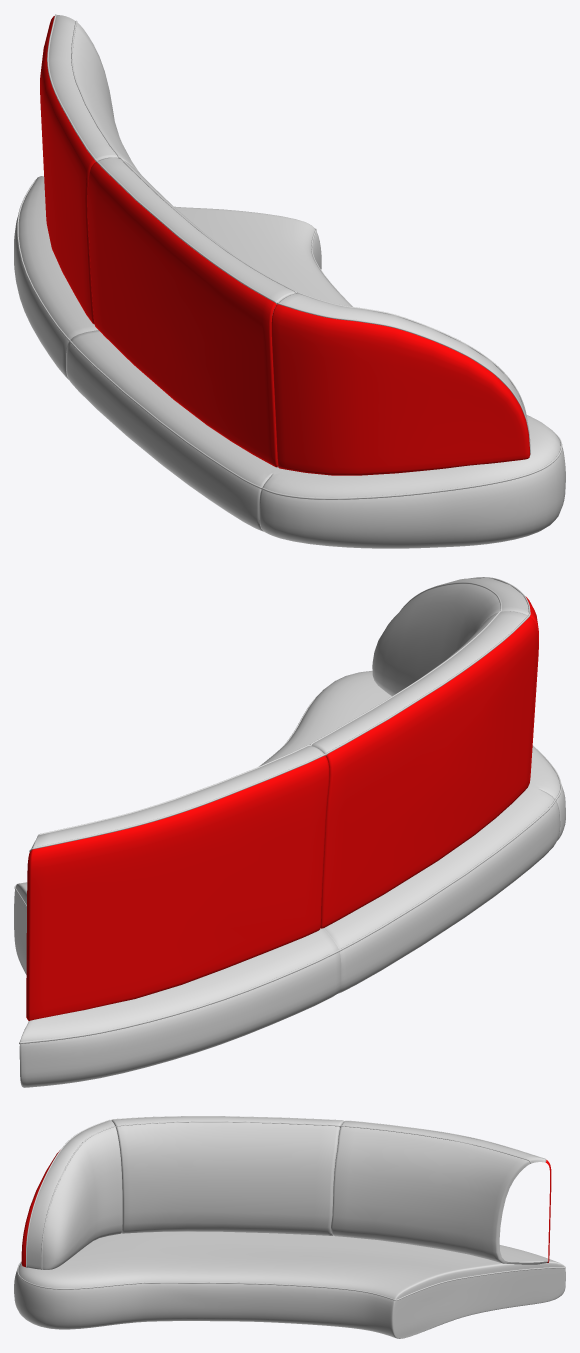
Rendered from levante_l_female_mirror.gltf.
The picture shows the model from 3 angles, top to bottom: view 1: azimuth 30°, elevation 25°; view 2: azimuth 150°, elevation 25°; view 3: azimuth 270°, elevation 25°; orthographic projection. The views are drawn at different scales.
Parts seen in each view (by area): view 1: levante_l_female001; view 2: levante_l_female001; view 3: levante_l_female001.
Part boxes in pixels (x1,y1,x2,y2): levante_l_female001: (14, 14, 565, 548); levante_l_female001: (14, 577, 565, 1087); levante_l_female001: (14, 1116, 565, 1338).
Bounding box in the file's own units: 0.9381 × 0.6989 × 2.38.
